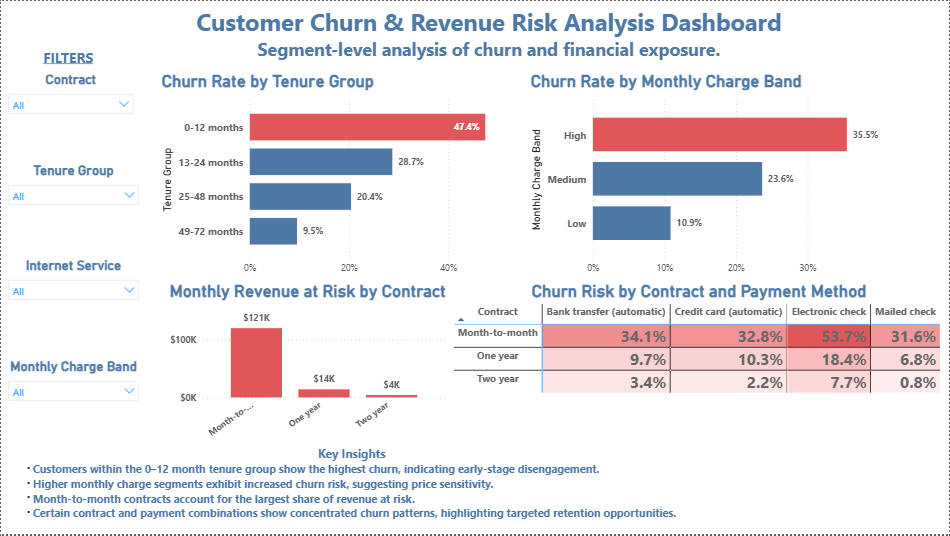

This screenshot's page, from the dashboard's own definition file:
{"tool":"powerbi","page":{"name":"Risk Analysis","canvas":[1280,720],"ordinal":1},"visuals":[{"type":"textbox","box":[245.9,0,826.8,95.1],"z":0},{"type":"slicer","title":"Contract","fields":{"Values":["telco Customers.Contract"]},"box":[0,95.1,188.8,71.7],"z":1000},{"type":"slicer","title":"Tenure Group","fields":{"Values":["telco Customers.Tenure Group"]},"box":[0,217.1,196.1,79],"z":2000},{"type":"slicer","title":"Internet Service","fields":{"Values":["telco Customers.Internet Service"]},"box":[0,346.3,196.1,86.3],"z":3000},{"type":"slicer","title":"Monthly Charge Band","fields":{"Values":["telco Customers.Monthly Charge Band"]},"box":[0,482.9,196.1,77.6],"z":4000},{"type":"pivotTable","title":"Churn Risk by Contract and Payment Method","fields":{"Rows":["telco Customers.Contract"],"Columns":["telco Customers.Payment Method"],"Values":["telco Customers.Churn Rate"]},"box":[607.3,379,673.2,193.2],"z":5000},{"type":"clusteredBarChart","fields":{"Y":["telco Customers.Churn Rate"],"Category":["telco Customers.Tenure Group"]},"box":[212.2,95.1,499,283.9],"z":6000},{"type":"clusteredBarChart","fields":{"Category":["telco Customers.Monthly Charge Band"],"Y":["telco Customers.Churn Rate"]},"box":[711.2,95.1,491.7,283.9],"z":7000},{"type":"clusteredColumnChart","fields":{"Category":["telco Customers.Contract"],"Y":["telco Customers.Monthly Revenue at Risk"]},"box":[222.4,379,384.9,247.3],"z":8000},{"type":"textbox","box":[20.5,595.6,907.3,124.4],"z":9000},{"type":"textbox","box":[7.3,58.5,168.3,41],"z":10000}]}

Visuals, with their boxes in screenshot pixels (x1, y1, x2, y2), scaled from the page's 1280x720 canvas onto the 950x536 screenshot:
textbox: pyautogui.locateOnScreen(183, 0, 796, 71)
"Contract" slicer: pyautogui.locateOnScreen(0, 71, 140, 124)
"Tenure Group" slicer: pyautogui.locateOnScreen(0, 162, 146, 220)
"Internet Service" slicer: pyautogui.locateOnScreen(0, 258, 146, 322)
"Monthly Charge Band" slicer: pyautogui.locateOnScreen(0, 359, 146, 417)
"Churn Risk by Contract and Payment Method" pivotTable: pyautogui.locateOnScreen(451, 282, 949, 426)
clusteredBarChart - telco Customers.Churn Rate x telco Customers.Tenure Group: pyautogui.locateOnScreen(157, 71, 528, 282)
clusteredBarChart - telco Customers.Monthly Charge Band x telco Customers.Churn Rate: pyautogui.locateOnScreen(528, 71, 893, 282)
clusteredColumnChart - telco Customers.Contract x telco Customers.Monthly Revenue at Risk: pyautogui.locateOnScreen(165, 282, 451, 466)
textbox: pyautogui.locateOnScreen(15, 443, 689, 535)
textbox: pyautogui.locateOnScreen(5, 44, 130, 74)
